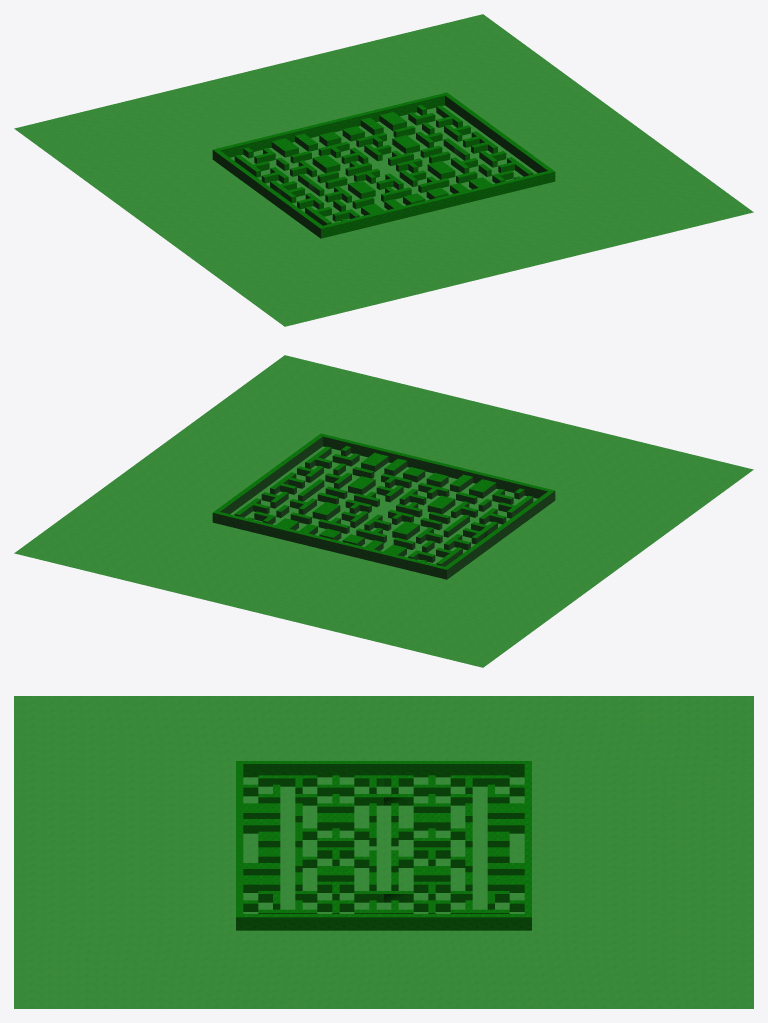
The model's file is maze_4player.glb.
3 renders of one model, top to bottom at view 1: azimuth 30°, elevation 25°; view 2: azimuth 150°, elevation 25°; view 3: azimuth 270°, elevation 25°, orthographic. The views are drawn at different scales.
Parts seen in each view (by area): view 1: outer_floor, o105, o106_13; view 2: outer_floor, o105, o106_13; view 3: outer_floor, o106_13, o105, o25_3, o25_1, o7_3, o7_1, o27_2, o27, o7_2, o27_3, o27_1 (+5 smaller).
Boxes of the visible parts, x1,y1,x2,y2 form: outer_floor: [14, 14, 753, 326]; o105: [212, 92, 555, 238]; o106_13: [230, 105, 537, 223]; outer_floor: [14, 355, 753, 667]; o105: [212, 433, 555, 579]; o106_13: [230, 446, 537, 564]; outer_floor: [14, 696, 753, 1008]; o106_13: [243, 777, 524, 913]; o105: [236, 761, 531, 930]; o25_3: [258, 775, 317, 793]; o25_1: [450, 775, 509, 793]; o7_3: [317, 813, 354, 830]; o7_1: [413, 813, 450, 830]; o27_2: [243, 875, 280, 892]; o27: [487, 875, 524, 892]; o7_2: [317, 866, 354, 881]; o27_3: [243, 803, 280, 818]; o27_1: [487, 803, 524, 818].
Bounding box in the file's own units: 200 × 4 × 200.
3 materials, 3 textured.
